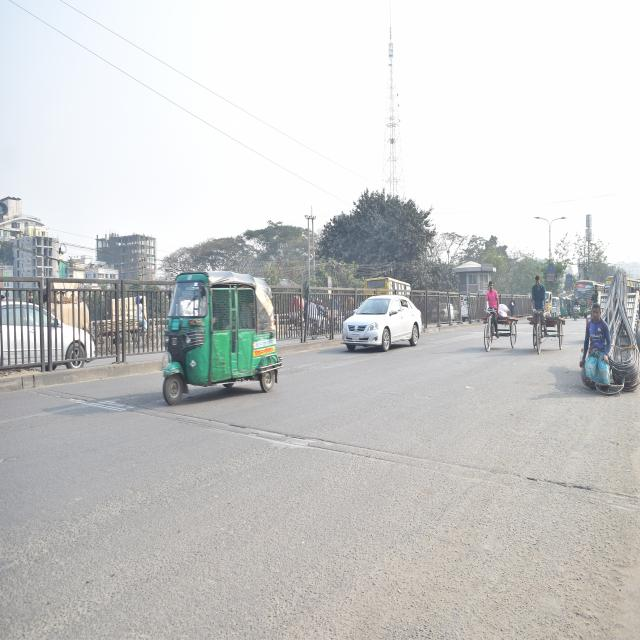bus: (576, 277, 592, 314)
car: (0, 296, 96, 376), (341, 290, 422, 360)
